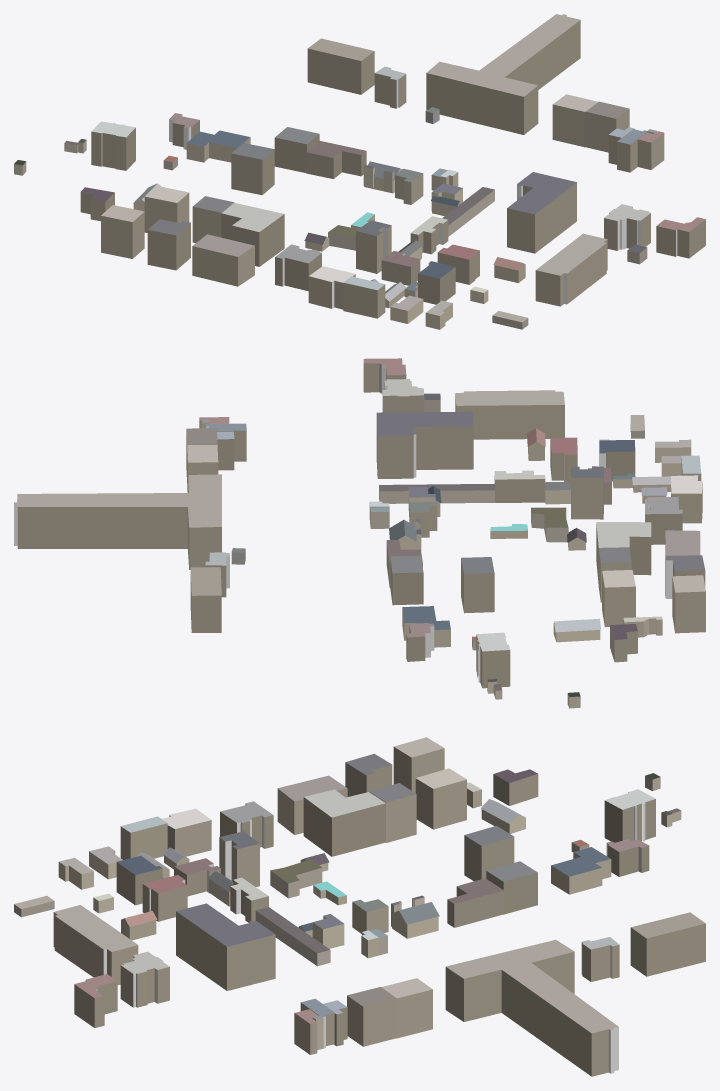
The picture shows the model from 3 angles, top to bottom: view 1: azimuth 30°, elevation 25°; view 2: azimuth 150°, elevation 25°; view 3: azimuth 270°, elevation 25°; orthographic projection. The views are drawn at different scales.
Visible parts, largest first — view 1: tuile; view 2: tuile; view 3: tuile.
Part boxes in pixels (left/top/right/bottom): tuile: left=14, top=14, right=705, bottom=329; tuile: left=14, top=358, right=705, bottom=708; tuile: left=14, top=737, right=705, bottom=1076.
Bounding box in the file's own units: 274 × 23.35 × 263.
